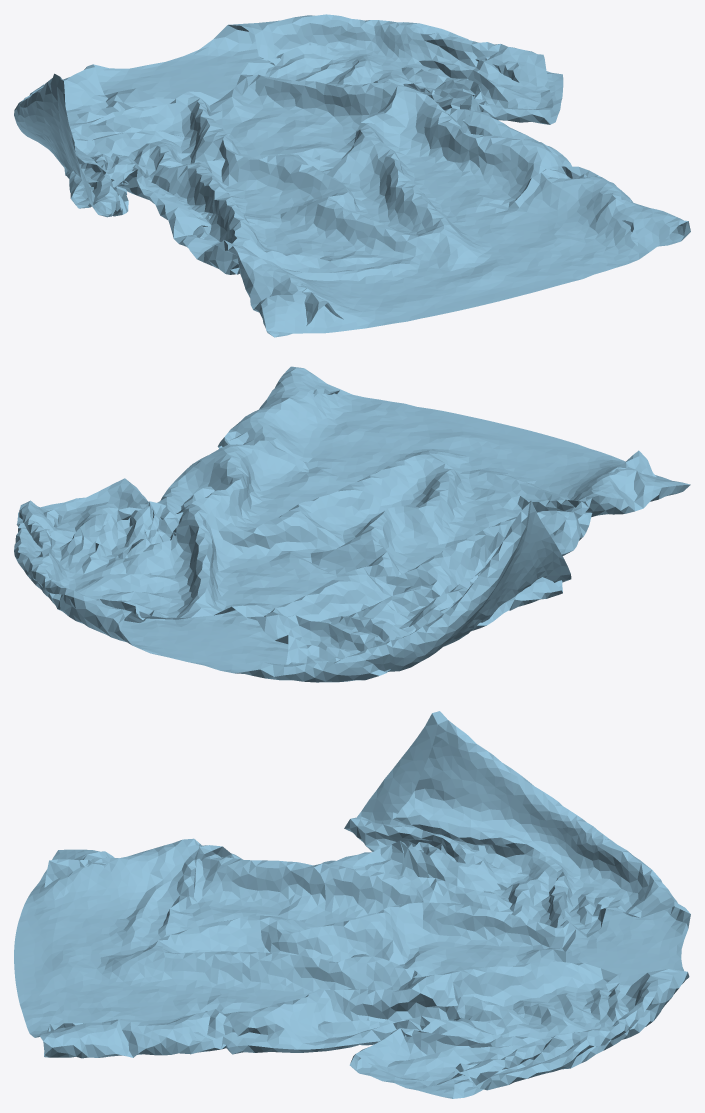
Rendered from frame_06.glb.
3 renders of one model, top to bottom at view 1: azimuth 30°, elevation 25°; view 2: azimuth 150°, elevation 25°; view 3: azimuth 270°, elevation 25°, orthographic. The views are drawn at different scales.
Parts seen in each view (by area): view 1: frame_06.obj; view 2: frame_06.obj; view 3: frame_06.obj.
Part boxes in pixels (left/top/right/bottom): frame_06.obj: left=14, top=14, right=690, bottom=337; frame_06.obj: left=14, top=366, right=690, bottom=682; frame_06.obj: left=14, top=711, right=690, bottom=1098.
Bounding box in the file's own units: 1.56 × 0.3918 × 1.72.
